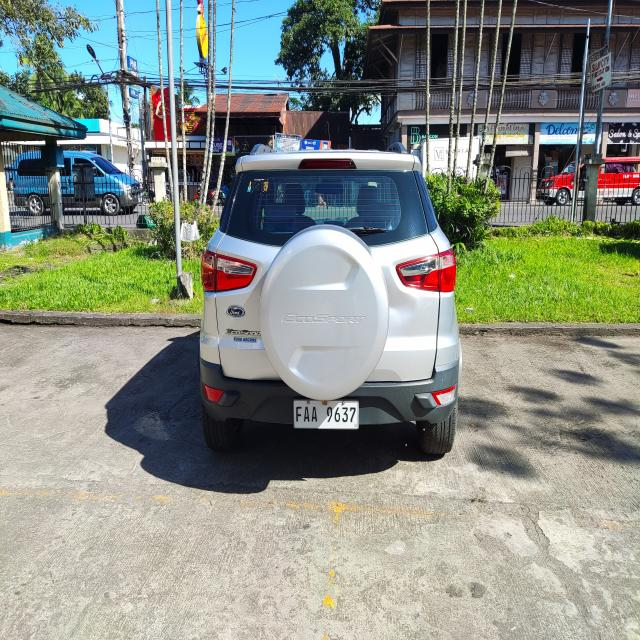plate: (292, 398, 360, 431)
